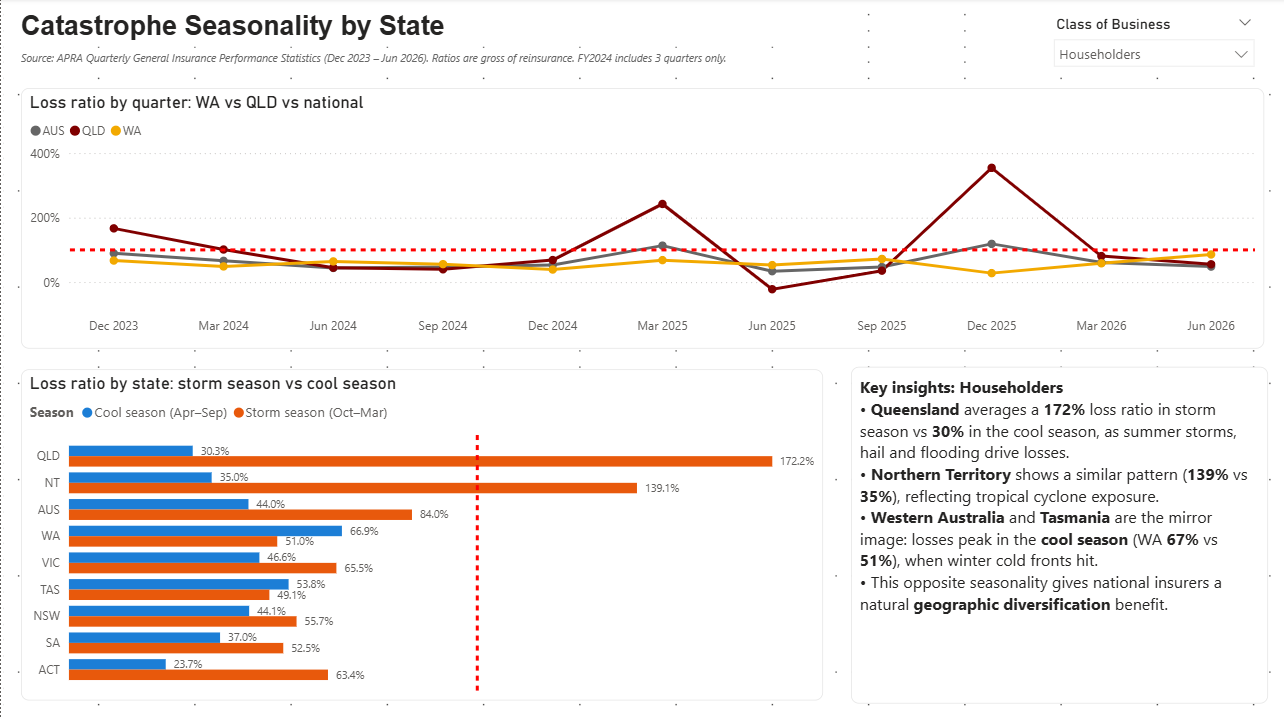

The page's visual inventory and layout, read from the dashboard file:
{"tool":"powerbi","page":{"name":"Seasonality","canvas":[1280,720],"ordinal":1},"visuals":[{"type":"textbox","box":[20,12,760,36],"z":0},{"type":"textbox","box":[20,50,760,24],"z":1000},{"type":"slicer","fields":{"Values":["dim_class.class_of_business"]},"box":[1040,12,220,56],"z":2000},{"type":"lineChart","title":"Loss ratio by quarter: WA vs QLD vs national","fields":{"Category":["dim_quarter.quarter_label"],"Series":["dim_state.state_code"],"Y":["_Measures.Loss Ratio"]},"box":[20,90,1240,260],"z":3000},{"type":"clusteredBarChart","title":"Loss ratio by state: storm season vs cool season","fields":{"Category":["dim_state.state_code"],"Series":["dim_quarter.Season"],"Y":["_Measures.Loss Ratio"]},"box":[20,370,800,330],"z":4000},{"type":"textbox","box":[848,368,416,336],"z":4001}]}

Visuals, with their boxes in screenshot pixels (x1, y1, x2, y2), scaled from the page's 1280x720 canvas onto the 1284x718 screenshot:
textbox: bbox=(20, 12, 782, 48)
textbox: bbox=(20, 50, 782, 74)
slicer - dim_class.class_of_business: bbox=(1043, 12, 1264, 68)
"Loss ratio by quarter: WA vs QLD vs national" lineChart: bbox=(20, 90, 1264, 349)
"Loss ratio by state: storm season vs cool season" clusteredBarChart: bbox=(20, 369, 823, 698)
textbox: bbox=(851, 367, 1268, 702)
